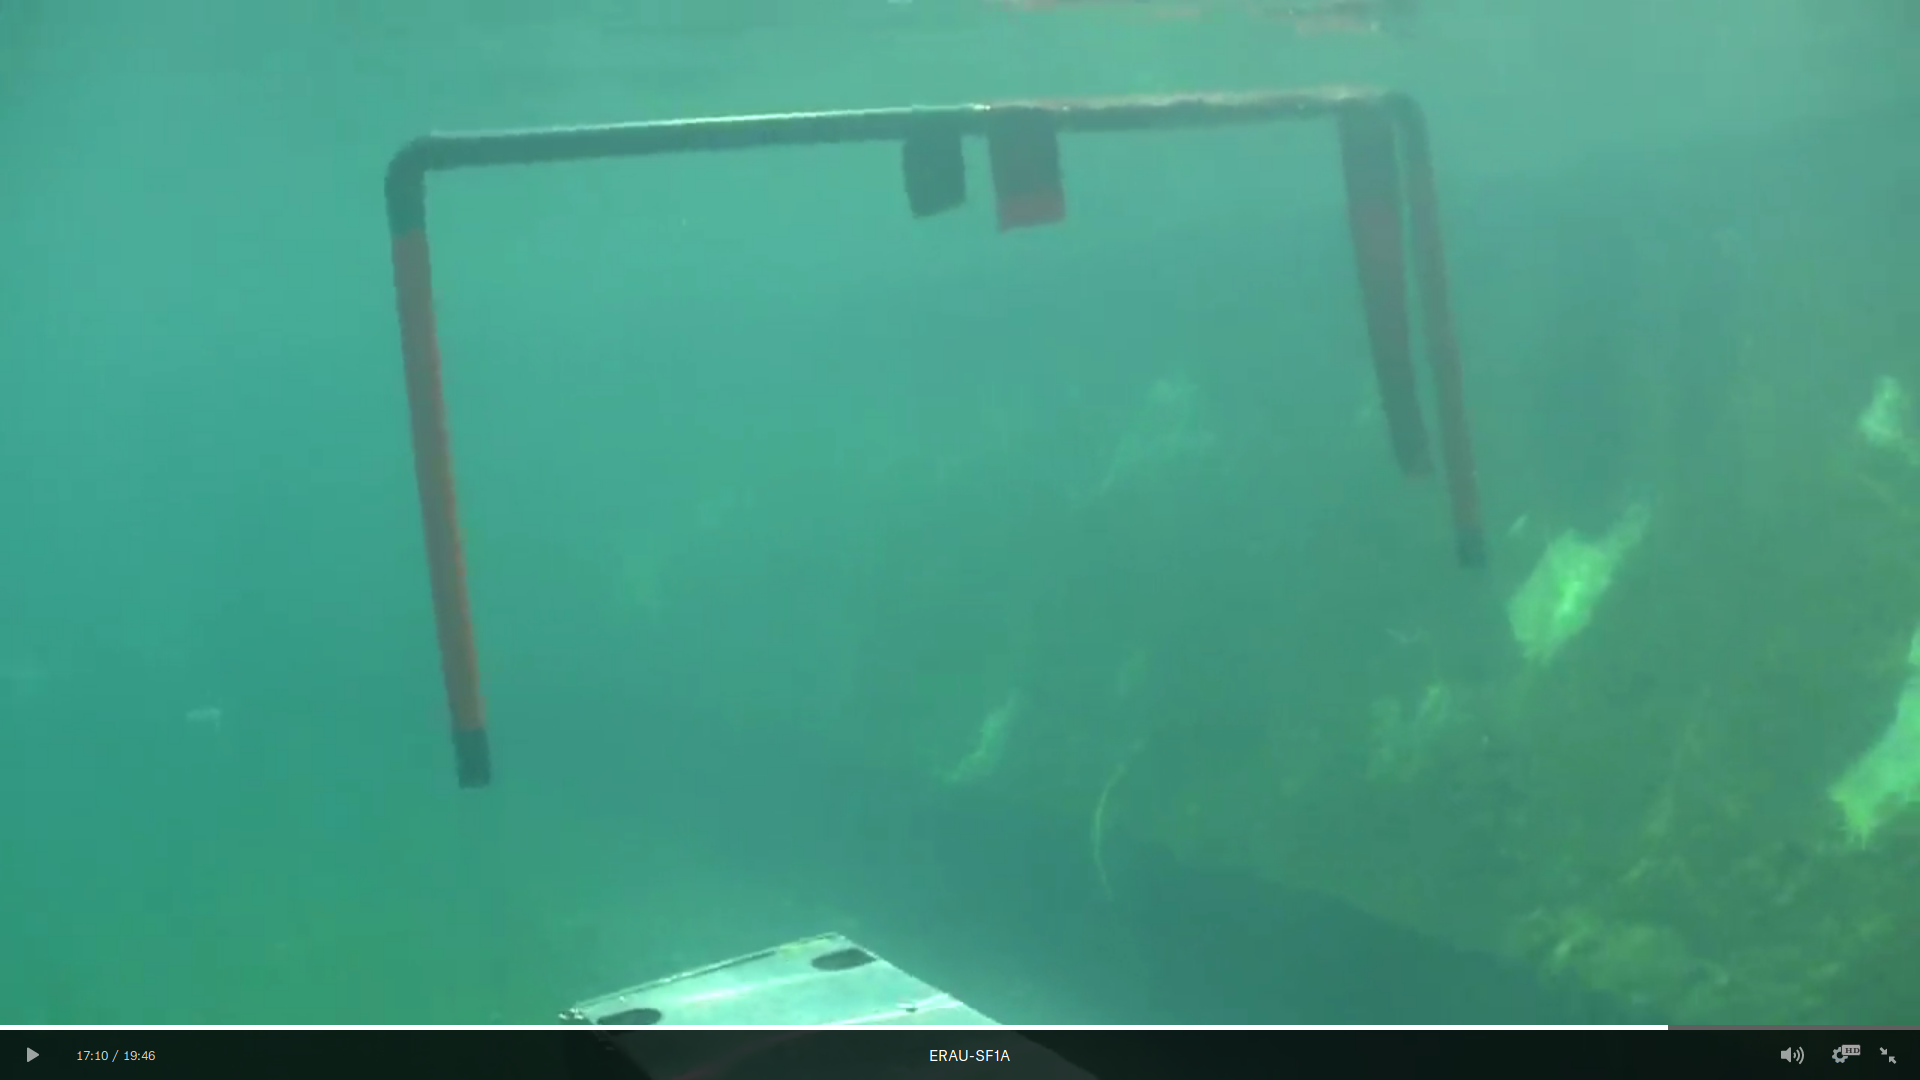gate: (348, 74, 1540, 804)
